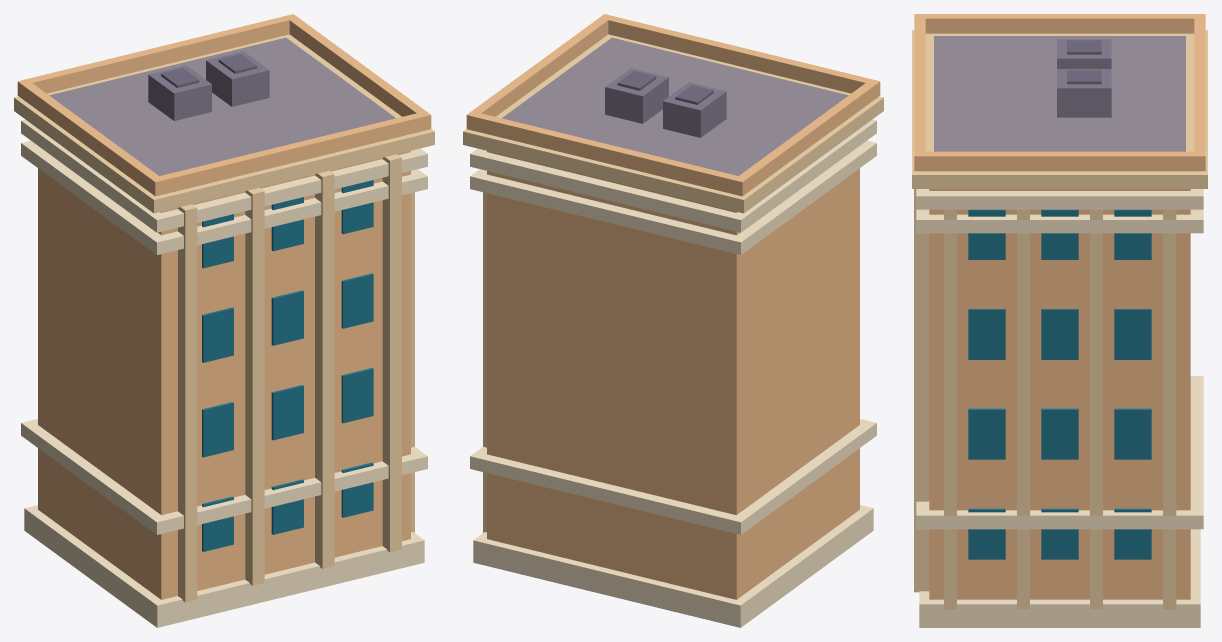
Rendered from Building_Orange_Office_Short.glb.
3 views of the same model, side by side, from view 1: azimuth 30°, elevation 25°; view 2: azimuth 150°, elevation 25°; view 3: azimuth 270°, elevation 25° (orthographic). The views are drawn at different scales.
Parts seen in each view (by area): view 1: Building_Orange_Office_Short; view 2: Building_Orange_Office_Short; view 3: Building_Orange_Office_Short.
Boxes of the visible parts, x1=… form: Building_Orange_Office_Short: x1=14, y1=14, x2=434, y2=627; Building_Orange_Office_Short: x1=463, y1=14, x2=883, y2=627; Building_Orange_Office_Short: x1=912, y1=14, x2=1207, y2=627.
Size of the model in its own units: 3.94 by 6.29 by 3.4.
